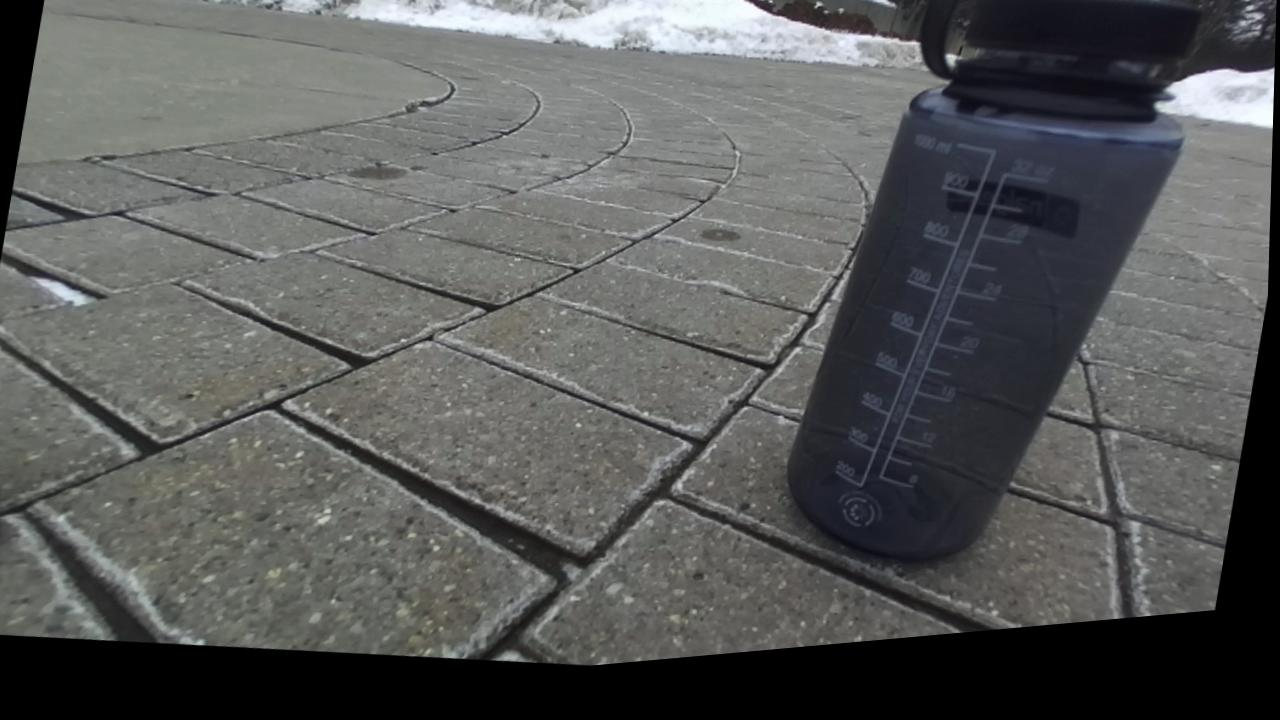bottle: (786, 0, 1196, 558)
